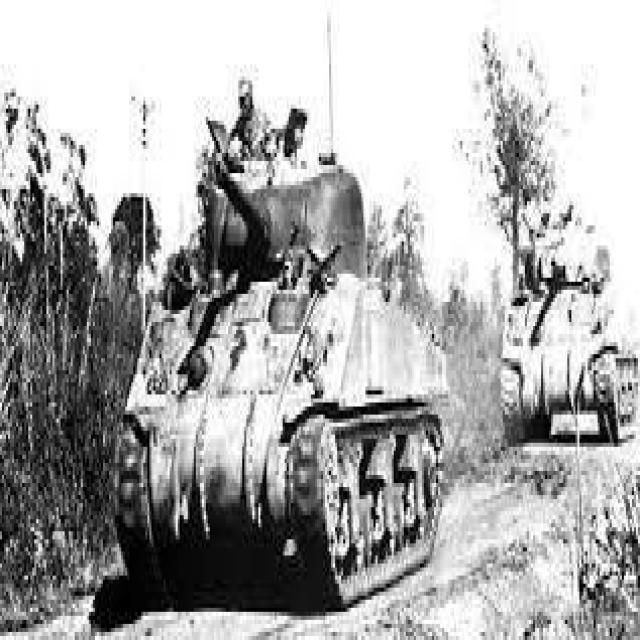Tanks: (118, 151, 449, 606), (501, 229, 634, 443)
